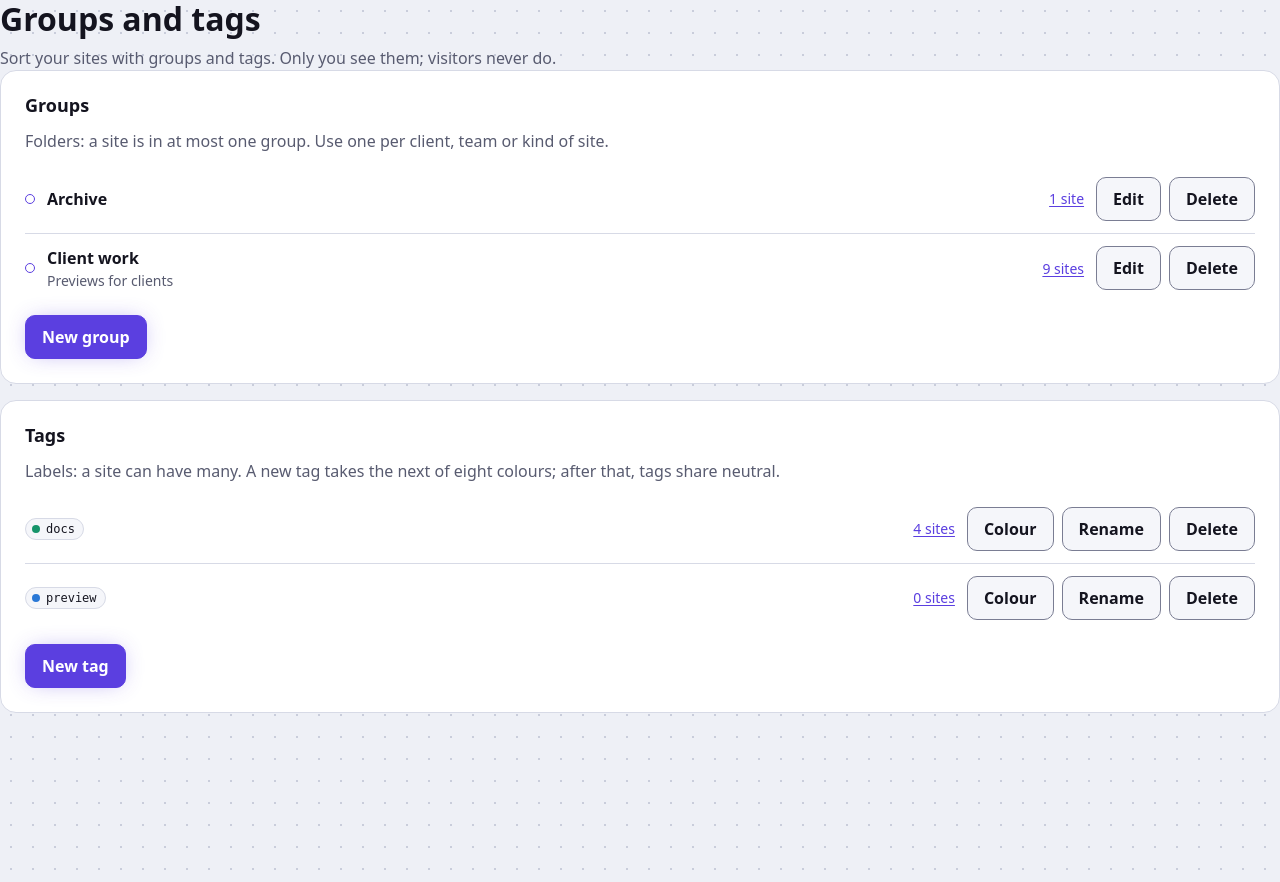
Scenario: groups › says when the server cannot be reached
Click the button "New group": (86, 337) [25,315,147,359]
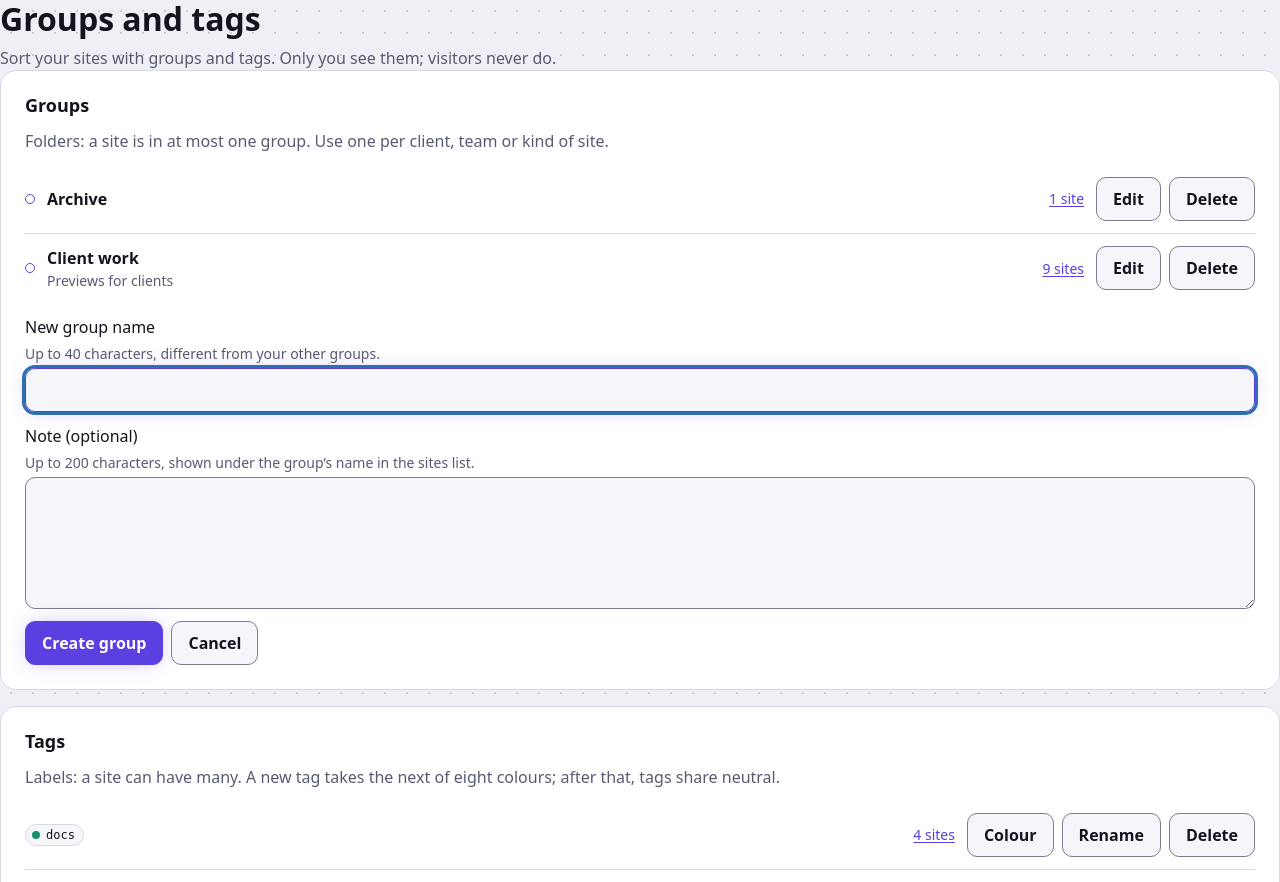
In the field labelled "New group name": (640, 390) [25,368,1255,412], type "Blog"
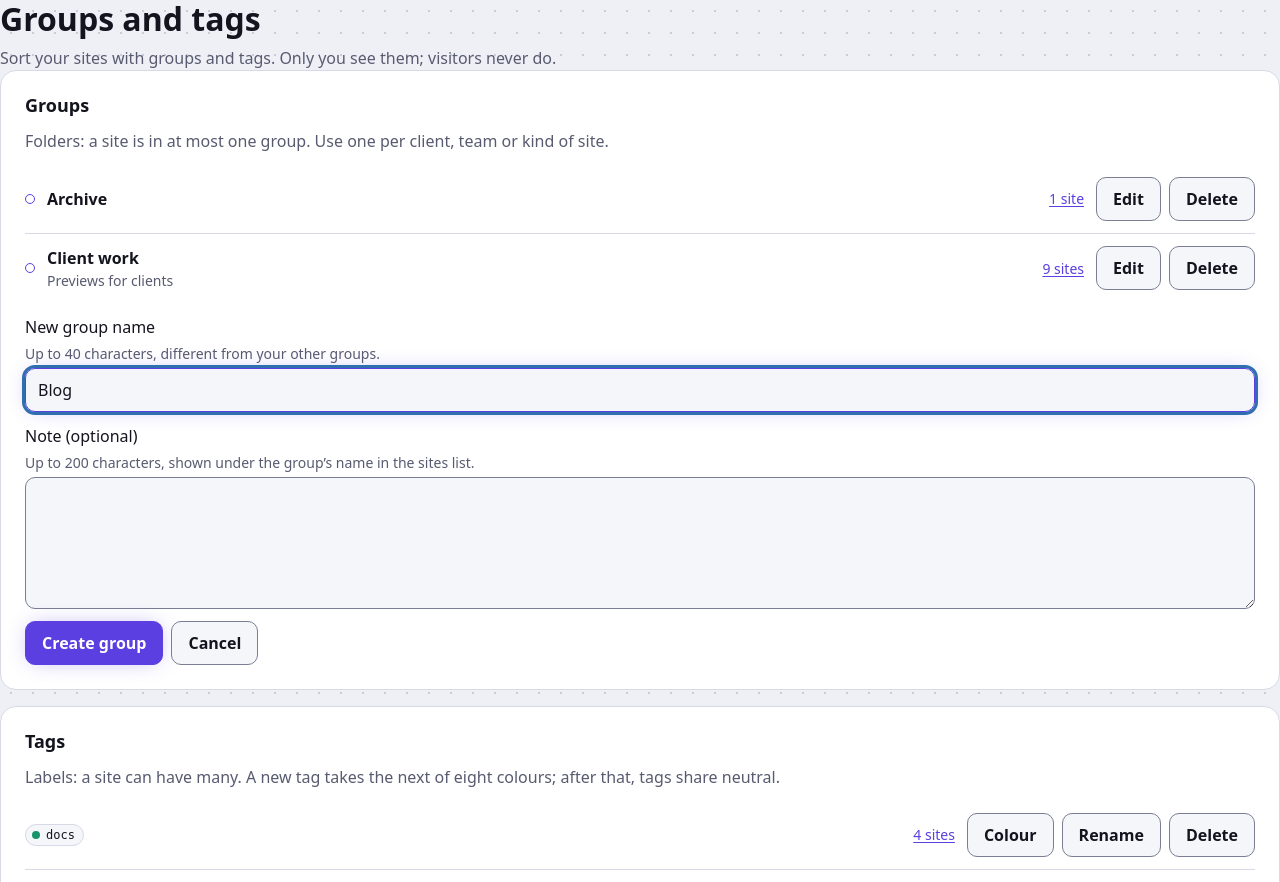
Click the button "Create group": (94, 643) [25,621,163,665]
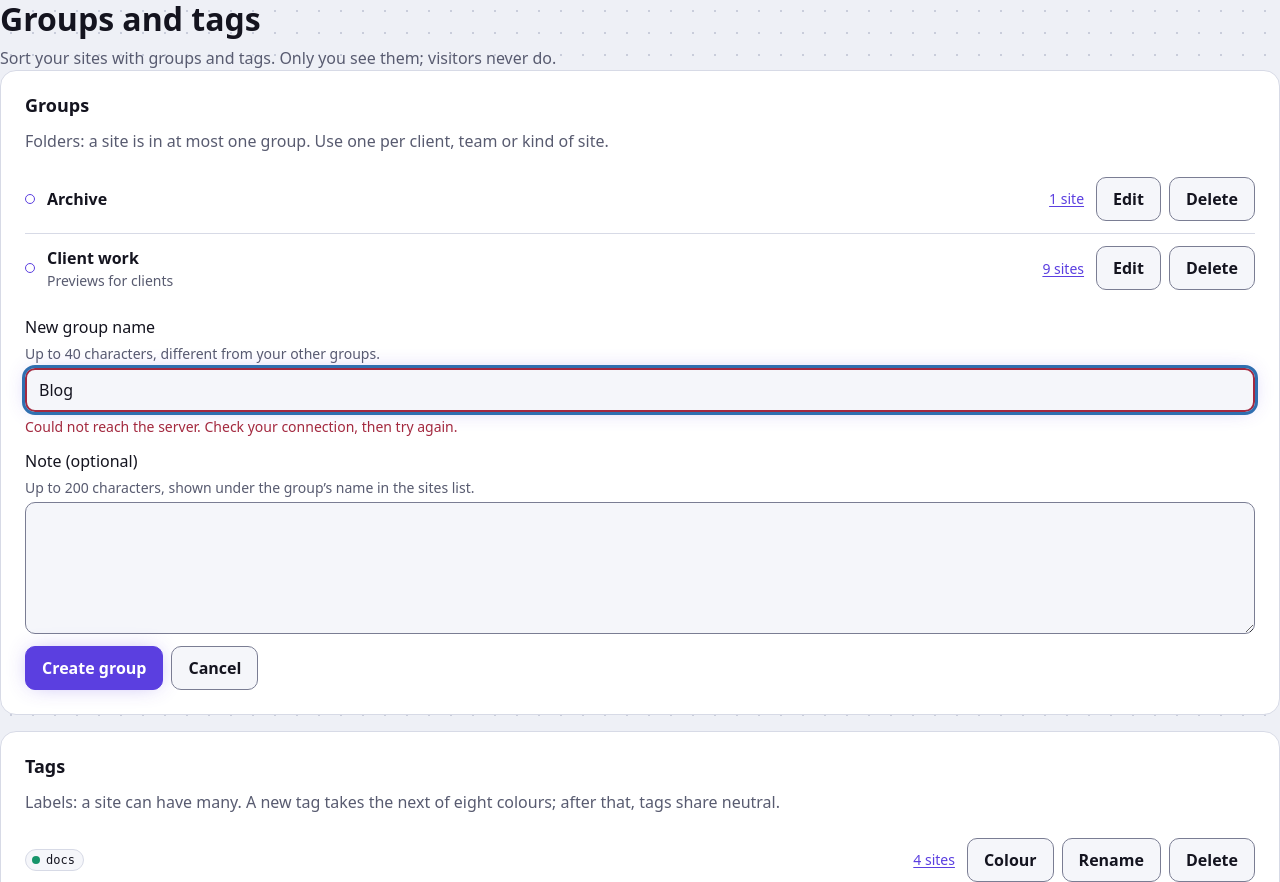
Now the message shows "Could not reach the server", box [25,417,458,436]
